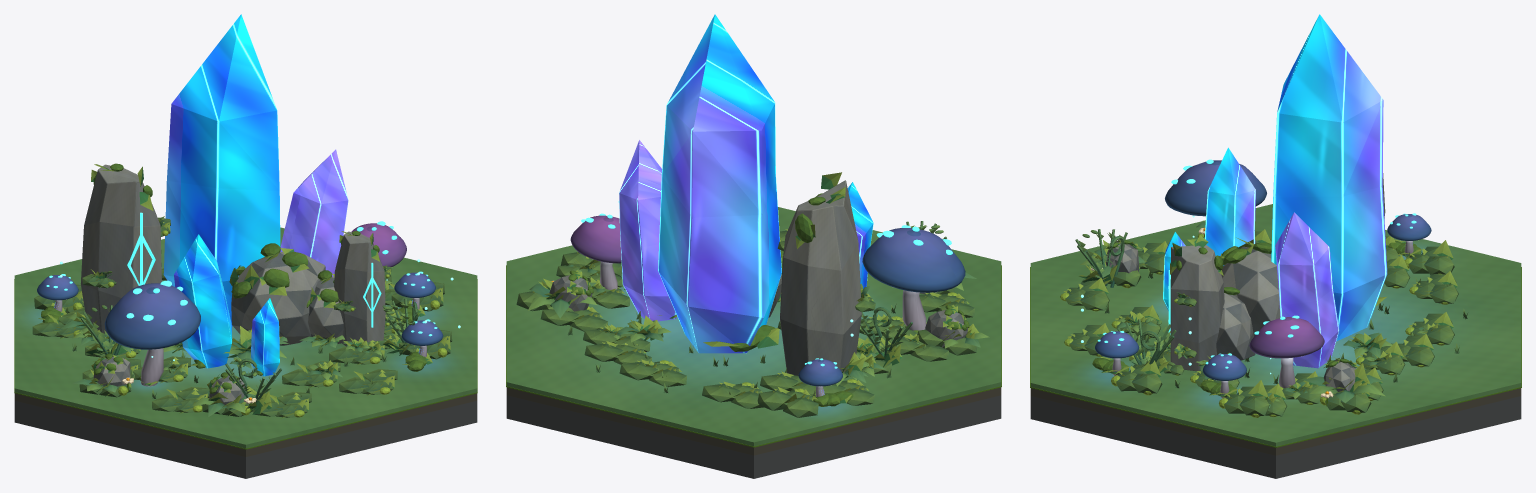
The model's file is hex_crystal_grove.glb.
The picture shows the model from 3 angles, left to right: view 1: azimuth 30°, elevation 25°; view 2: azimuth 150°, elevation 25°; view 3: azimuth 270°, elevation 25°; orthographic projection. The views are drawn at different scales.
Parts seen in each view (by area): view 1: Standard hex meadow top.001, Faceted magical crystal.001, Standard hex stone foundation.001, Weathered shrine monolith.001, Faceted magical crystal.004, Broad faceted mushroom cap.001, Faceted magical crystal.002, Weathered shrine monolith.002, Angular mossy forest boulder.001, Standard hex earth layer.001, Faceted magical crystal.005, Angular mossy forest boulder.002 (+7 smaller); view 2: Standard hex meadow top.001, Faceted magical crystal.001, Standard hex stone foundation.001, Weathered shrine monolith.001, Faceted magical crystal.004, Broad faceted mushroom cap.001, Standard hex earth layer.001, Broad faceted mushroom cap.003, Faceted magical crystal.002, Broad faceted mushroom cap.005, Angular mossy forest boulder.003, Curving luminous mushroom stem.001 (+7 smaller); view 3: Standard hex meadow top.001, Faceted magical crystal.001, Standard hex stone foundation.001, Faceted magical crystal.004, Weathered shrine monolith.002, Standard hex earth layer.001, Faceted magical crystal.002, Angular mossy forest boulder.001, Broad faceted mushroom cap.003, Broad faceted mushroom cap.001, Angular mossy forest boulder.002, Broad faceted mushroom cap.005 (+5 smaller).
Part boxes in pixels (x1,y1,x2,y2): Standard hex meadow top.001: (14, 227, 477, 448); Faceted magical crystal.001: (163, 14, 280, 326); Standard hex stone foundation.001: (14, 401, 477, 478); Weathered shrine monolith.001: (80, 164, 161, 333); Faceted magical crystal.004: (280, 149, 348, 276); Broad faceted mushroom cap.001: (104, 283, 200, 349); Faceted magical crystal.002: (174, 234, 231, 368); Weathered shrine monolith.002: (334, 231, 385, 346); Angular mossy forest boulder.001: (231, 252, 325, 345); Standard hex earth layer.001: (14, 393, 477, 456); Faceted magical crystal.005: (251, 298, 279, 376); Angular mossy forest boulder.002: (308, 276, 343, 343); Standard hex meadow top.001: (506, 207, 1001, 446); Faceted magical crystal.001: (658, 14, 781, 353); Standard hex stone foundation.001: (506, 395, 1001, 478); Weathered shrine monolith.001: (780, 180, 861, 378); Faceted magical crystal.004: (619, 140, 676, 321); Broad faceted mushroom cap.001: (862, 228, 965, 292); Standard hex earth layer.001: (506, 387, 1001, 455); Broad faceted mushroom cap.003: (570, 215, 621, 263); Faceted magical crystal.002: (847, 182, 873, 288); Broad faceted mushroom cap.005: (798, 359, 842, 386); Angular mossy forest boulder.003: (925, 310, 967, 347); Curving luminous mushroom stem.001: (902, 290, 926, 330); Standard hex meadow top.001: (1030, 204, 1521, 446); Faceted magical crystal.001: (1271, 14, 1387, 341); Standard hex stone foundation.001: (1030, 396, 1521, 478); Faceted magical crystal.004: (1275, 212, 1339, 368); Weathered shrine monolith.002: (1170, 245, 1224, 371); Standard hex earth layer.001: (1030, 388, 1521, 455); Faceted magical crystal.002: (1204, 147, 1255, 265); Angular mossy forest boulder.001: (1221, 246, 1280, 336); Broad faceted mushroom cap.003: (1249, 317, 1324, 358); Broad faceted mushroom cap.001: (1165, 160, 1266, 216); Angular mossy forest boulder.002: (1216, 293, 1255, 360); Broad faceted mushroom cap.005: (1387, 214, 1431, 240).
Size of the model in its own units: 5.11 by 3.51 by 4.42.
43 materials, 32 textured.
